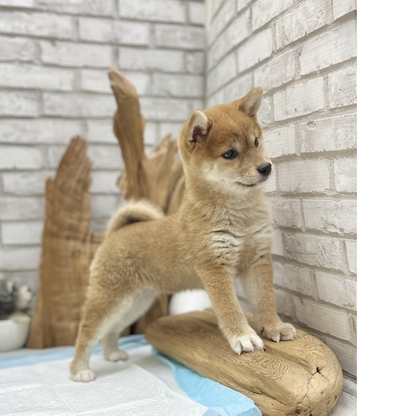shiba: (66, 83, 302, 385)
